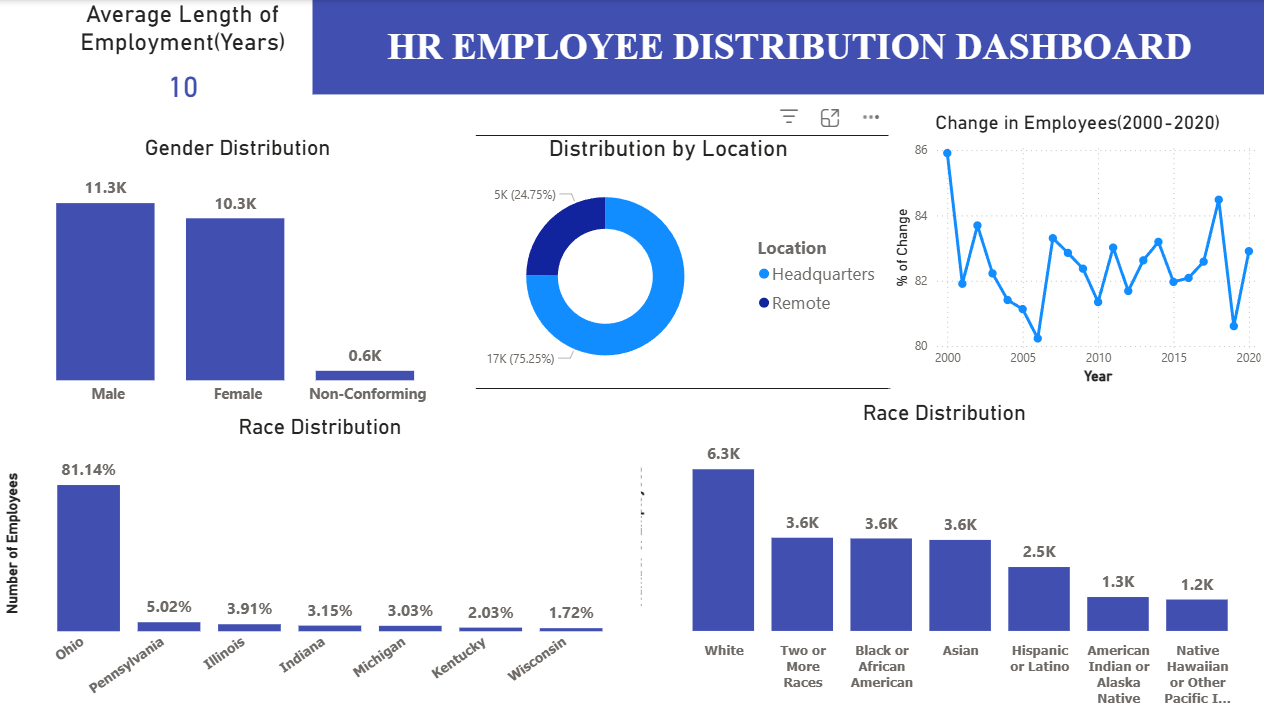

What the dashboard file says about the page in this screenshot:
{"tool":"powerbi","page":{"name":"Page 1","canvas":[1280,720],"ordinal":0},"visuals":[{"type":"card","title":"Average Length of Employment(Years)","fields":{"Values":["Sum(avg_length_employment.avg_years_employed)"]},"box":[0,0,370.5,112.5],"z":0},{"type":"donutChart","title":"Distribution by Location","fields":{"Category":["locations.location"],"Y":["Sum(locations.total_employees)"]},"box":[452.8,135.8,446,256.6],"z":1000},{"type":"columnChart","title":"Race Distribution","fields":{"Category":["race.race"],"Y":["Sum(race.total_employees)"]},"box":[630.6,404.2,648.6,315.3],"z":2000},{"type":"textbox","title":" ","box":[316.5,0,963,95.4],"z":3000},{"type":"lineChart","title":"Change in Employees(2000-2020)","fields":{"Y":["Sum(employee_growth.percentage)"],"Category":["employee_growth.year"]},"box":[898.5,112.5,381.5,279.9],"z":4000},{"type":"clusteredColumnChart","title":"Gender Distribution","fields":{"Category":["gender.gender"],"Y":["Sum(gender.total_employees)"]},"box":[0,135.8,481.6,281.3],"z":5000},{"type":"columnChart","title":"Race Distribution","fields":{"Category":["state.location_state"],"Y":["Sum(state.total_employees)"]},"box":[0,418,648,302],"z":6000}]}

Visuals, with their boxes in screenshot pixels (x1, y1, x2, y2), scaled from the page's 1280x720 canvas onto the 1264x712 screenshot:
"Average Length of Employment(Years)" card: [x1=0, y1=0, x2=366, y2=111]
"Distribution by Location" donutChart: [x1=447, y1=134, x2=888, y2=388]
"Race Distribution" columnChart: [x1=623, y1=400, x2=1263, y2=711]
" " textbox: [x1=313, y1=0, x2=1263, y2=94]
"Change in Employees(2000-2020)" lineChart: [x1=887, y1=111, x2=1263, y2=388]
"Gender Distribution" clusteredColumnChart: [x1=0, y1=134, x2=476, y2=412]
"Race Distribution" columnChart: [x1=0, y1=413, x2=640, y2=711]
